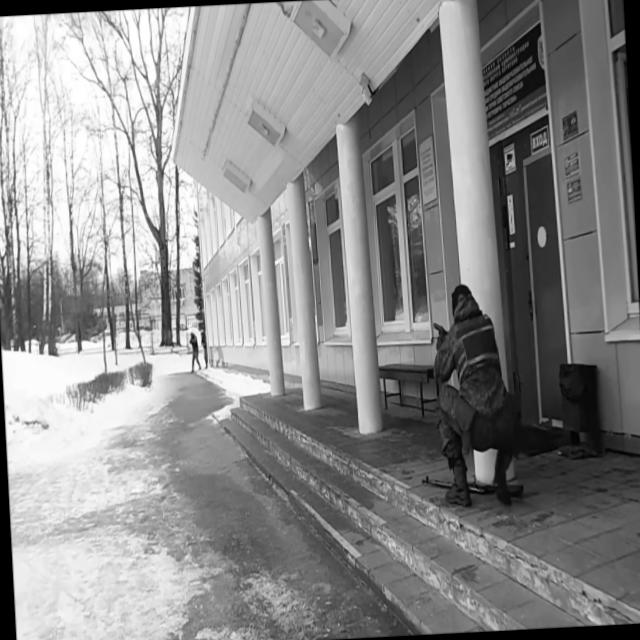gun: (420, 468, 526, 506), (432, 320, 447, 344)
person: (188, 330, 202, 376), (200, 330, 210, 370)
person with a gun: (430, 281, 520, 510)
